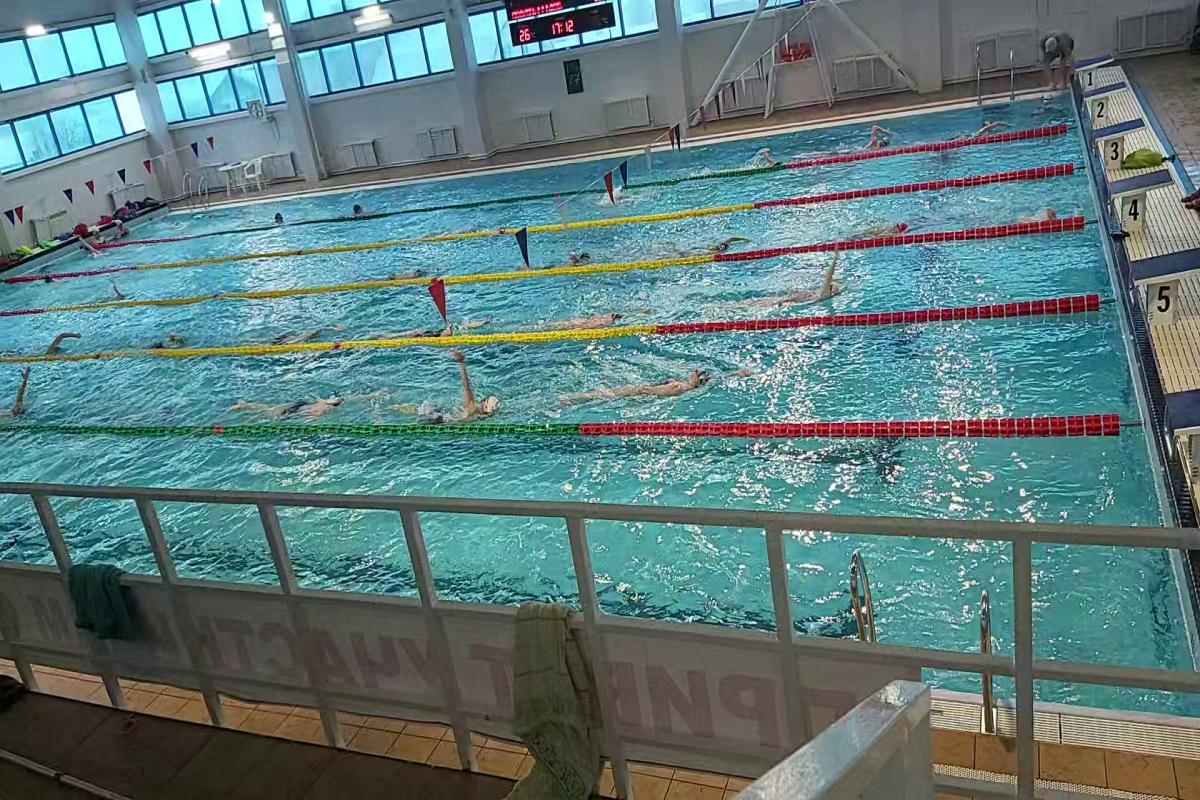swimmer: (559, 358, 759, 409), (415, 358, 510, 423), (233, 387, 368, 427), (762, 263, 852, 302), (557, 296, 655, 326), (390, 316, 498, 339), (674, 228, 767, 248), (38, 331, 91, 357), (859, 212, 911, 237), (554, 243, 599, 269)
